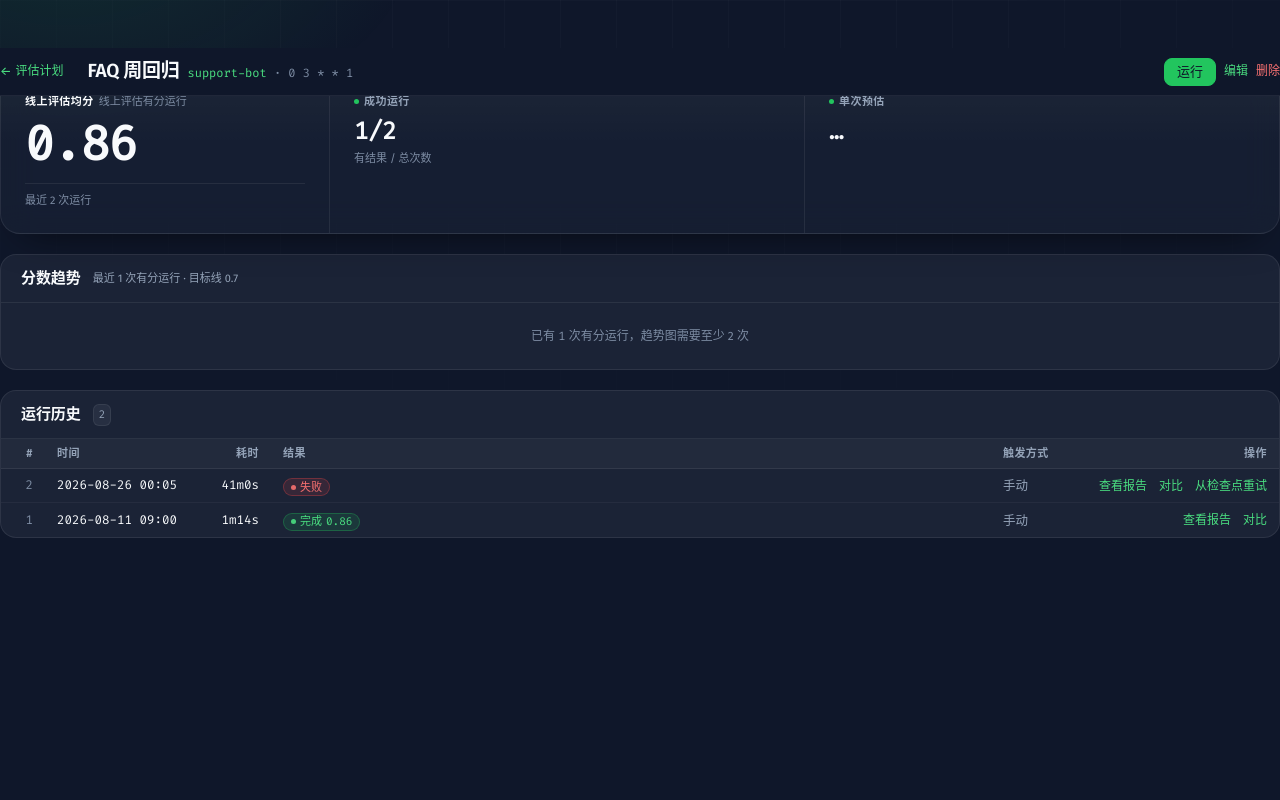
交付 6：确认卡必须说清要再花多少钱 › 后端拒绝（检查点读不出来）→ 照实透出真因，不谎称已开始
Click the button "从检查点重试".
click(1231, 486)  # box [1195,478,1267,494]
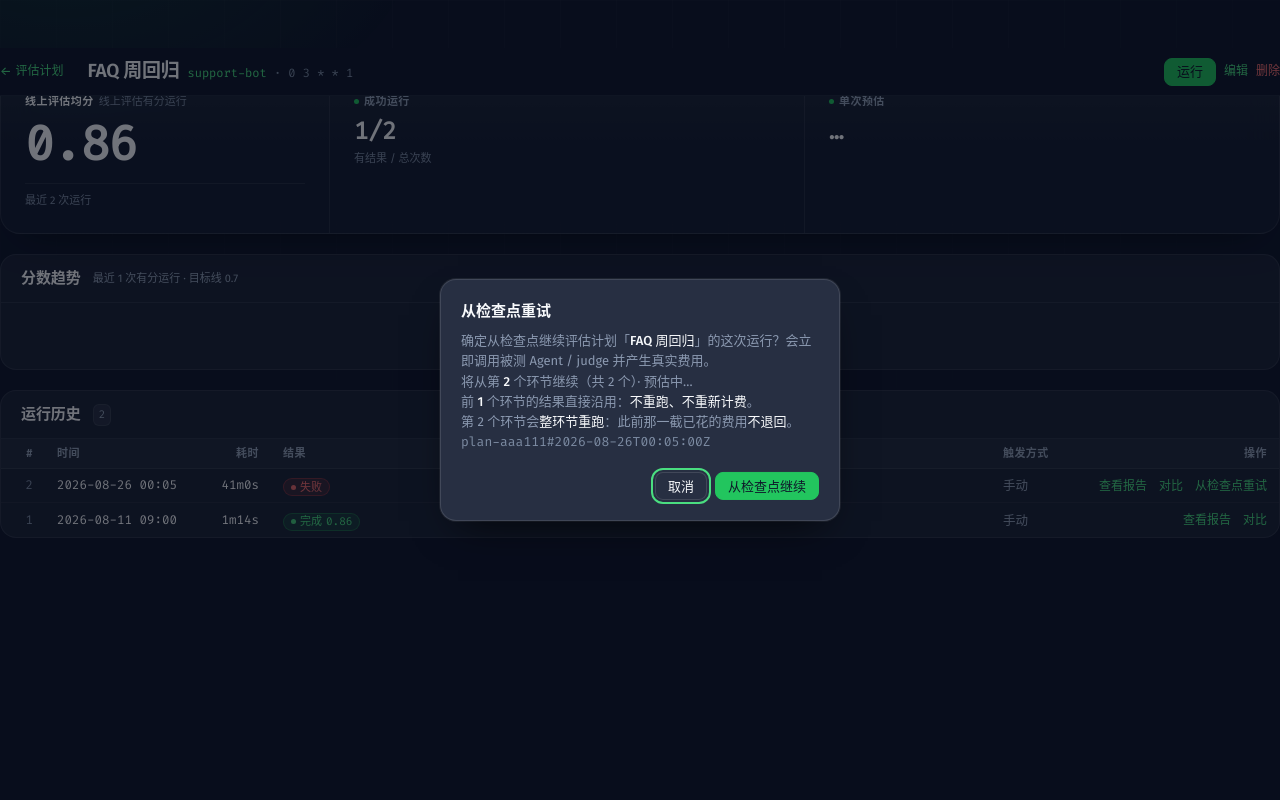
Click the button with test id "confirm-card-ok".
click(767, 486)  # box [715,472,819,500]
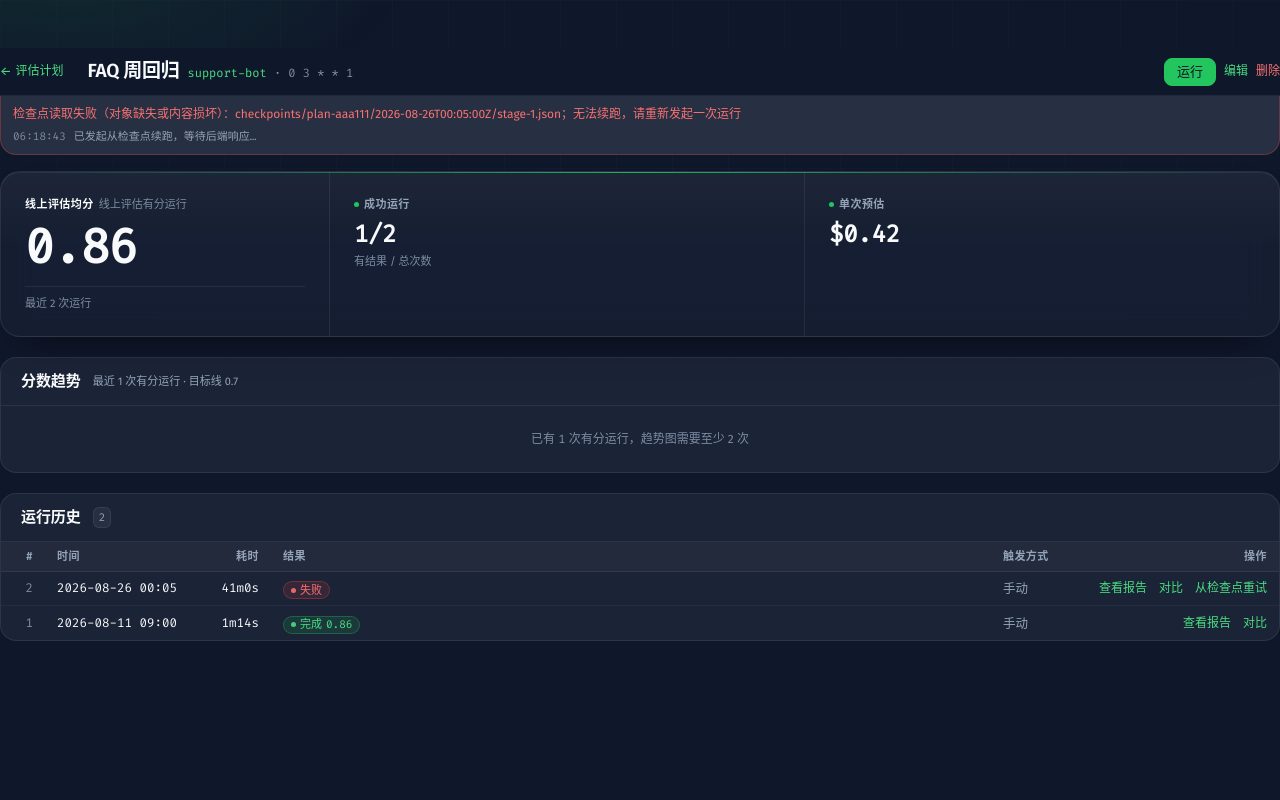
Expected: the text with test id "plan-run-progress-status" does not show "运行完成", [13,80,126,98]
Expected: the text with test id "plan-run-progress-error" shows "检查点读取失败", [13,107,741,121]
